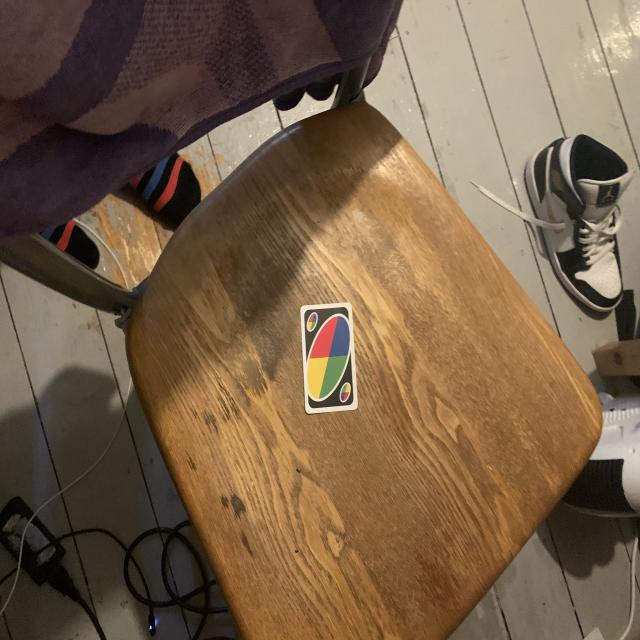lcolor-40: (305, 311, 321, 334)
